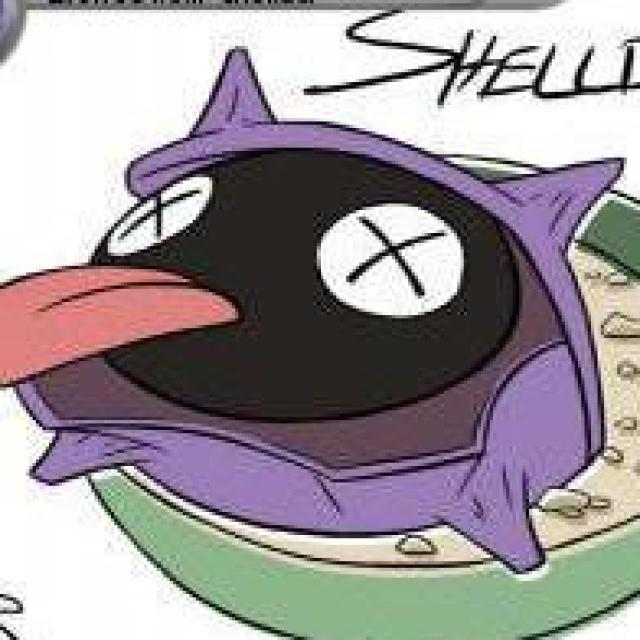Shellder: (0, 92, 627, 557)
